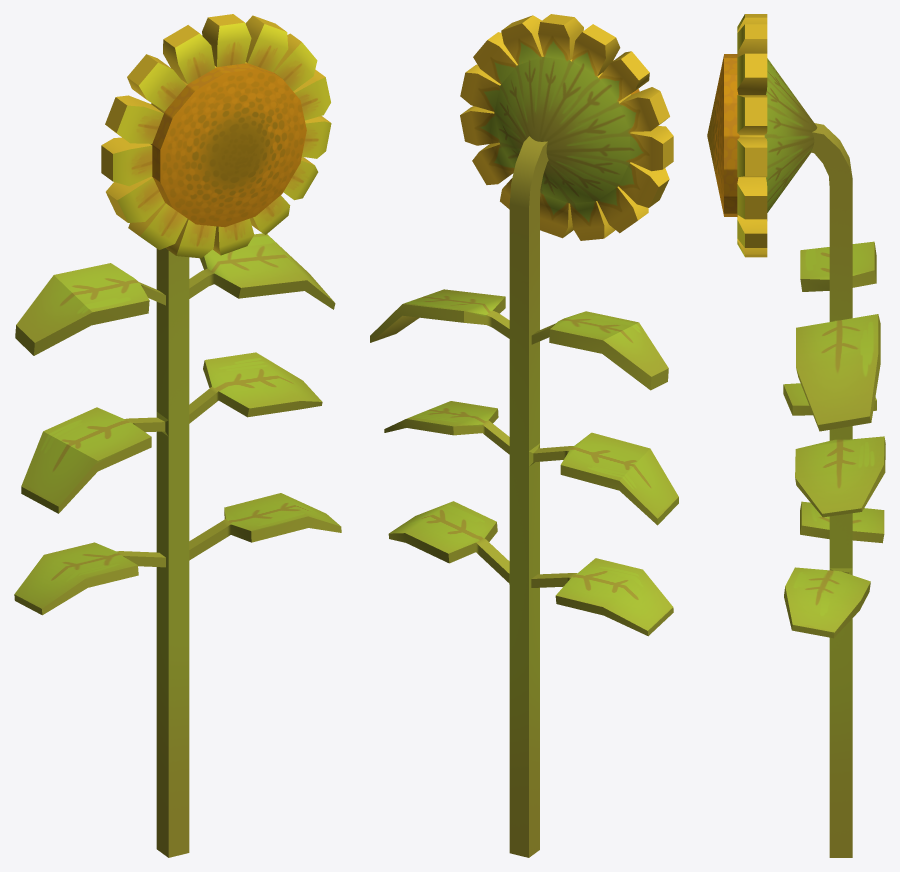
Rendered from lowpoly_sunflower.glb.
3 views of the same model, side by side, from view 1: azimuth 30°, elevation 25°; view 2: azimuth 150°, elevation 25°; view 3: azimuth 270°, elevation 25° (orthographic). The views are drawn at different scales.
Parts seen in each view (by area): view 1: pasted__polySurface67; view 2: pasted__polySurface67; view 3: pasted__polySurface67.
Part boxes in pixels (x1,y1,x2,y2): pasted__polySurface67: (14,14,341,857); pasted__polySurface67: (370,14,678,857); pasted__polySurface67: (707,14,885,857).
Bounding box in the file's own units: 4.04 × 11.14 × 2.18.
1 material, 1 textured.
